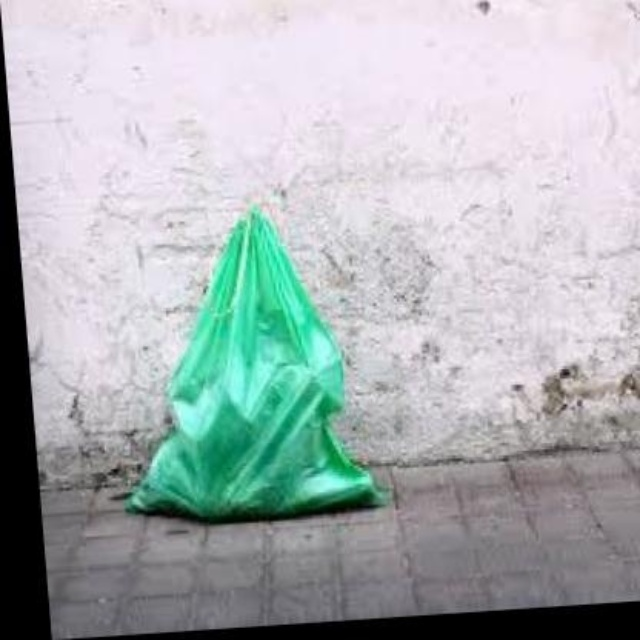trash: (125, 206, 382, 520)
